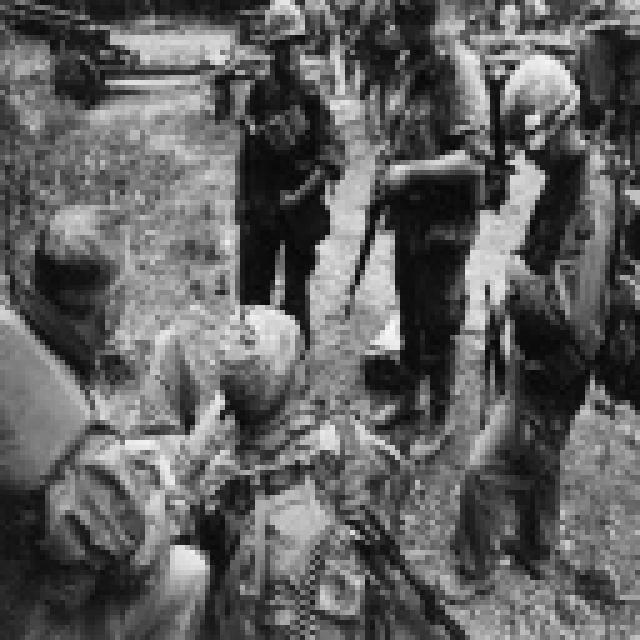Rifle: (0, 0, 162, 640), (331, 475, 502, 640), (327, 93, 422, 354), (469, 269, 558, 443)
